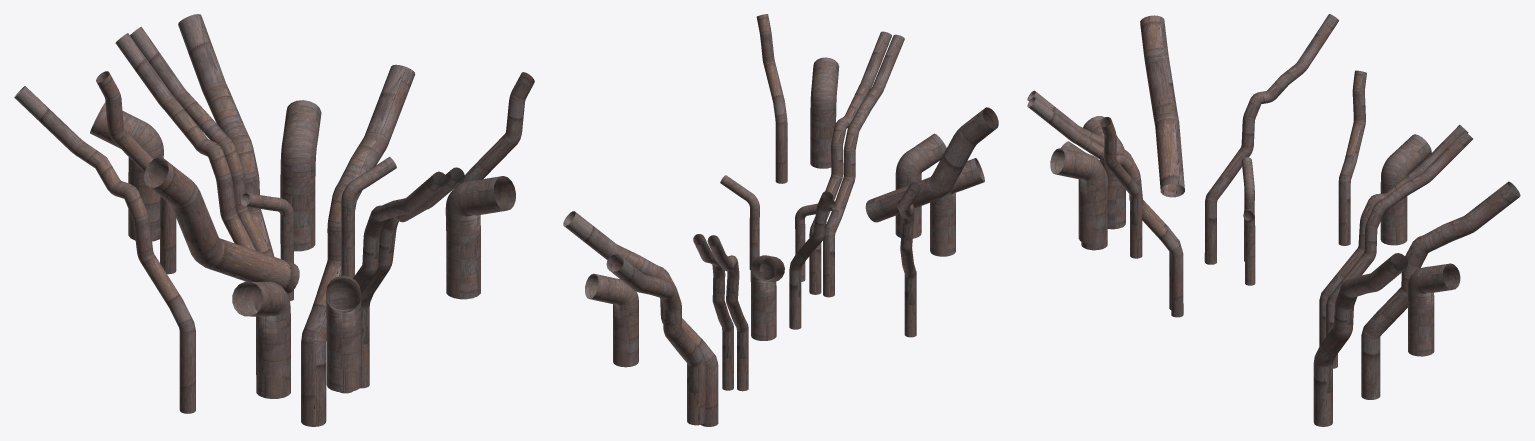
The model's file is SM_Scaffoldingue_Pipes_00.fbx.
The picture shows the model from 3 angles, left to right: view 1: azimuth 30°, elevation 25°; view 2: azimuth 150°, elevation 25°; view 3: azimuth 270°, elevation 25°; orthographic projection. The views are drawn at different scales.
Parts seen in each view (by area): view 1: SM_Scaffoldingue_Pipes_00; view 2: SM_Scaffoldingue_Pipes_00; view 3: SM_Scaffoldingue_Pipes_00.
Boxes of the visible parts, <box> form: SM_Scaffoldingue_Pipes_00: <box>14,14,534,426</box>; SM_Scaffoldingue_Pipes_00: <box>563,14,998,426</box>; SM_Scaffoldingue_Pipes_00: <box>1027,14,1520,426</box>.
Size of the model in its own units: 18262 by 17229 by 23306.
